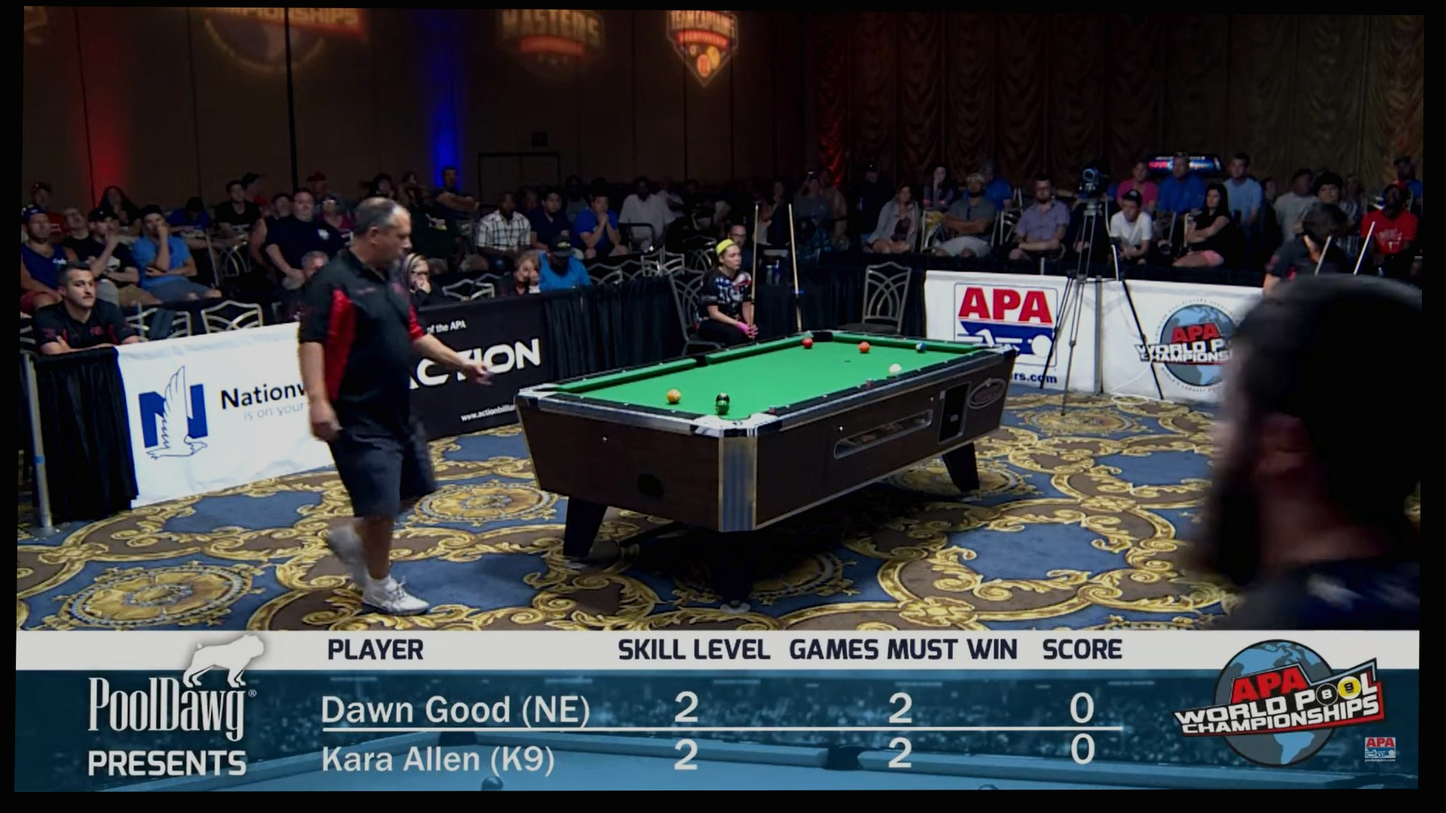Black: (716, 393, 730, 403)
Cue: (889, 363, 902, 376)
Solid: (579, 376, 590, 384), (722, 346, 733, 354), (899, 335, 910, 343), (914, 366, 925, 374), (668, 408, 679, 416), (576, 393, 587, 401), (656, 360, 666, 368), (941, 338, 951, 346), (941, 358, 951, 366), (820, 392, 830, 400), (619, 368, 630, 375), (781, 335, 792, 342), (860, 332, 871, 339), (965, 351, 976, 358), (782, 403, 793, 410), (753, 341, 763, 348), (854, 383, 864, 390), (621, 401, 631, 408)
Striped: (715, 399, 730, 414), (666, 389, 681, 404), (859, 341, 871, 353), (915, 342, 927, 353), (802, 337, 814, 348)
